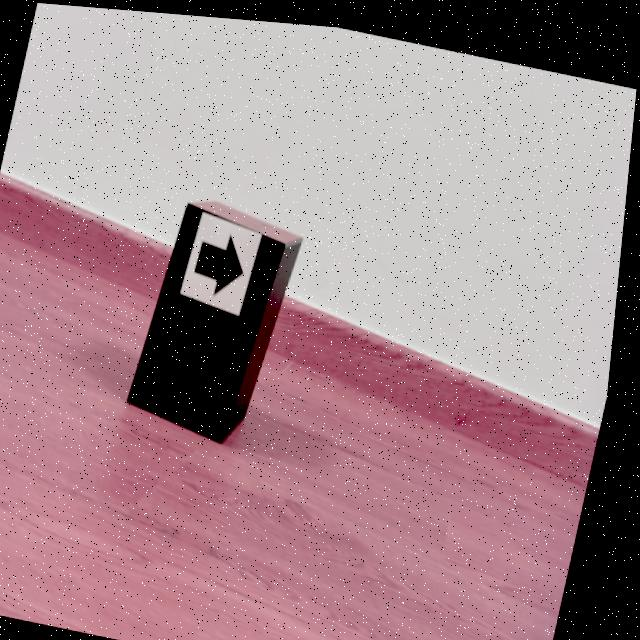RIGHT: (199, 230, 248, 290)
